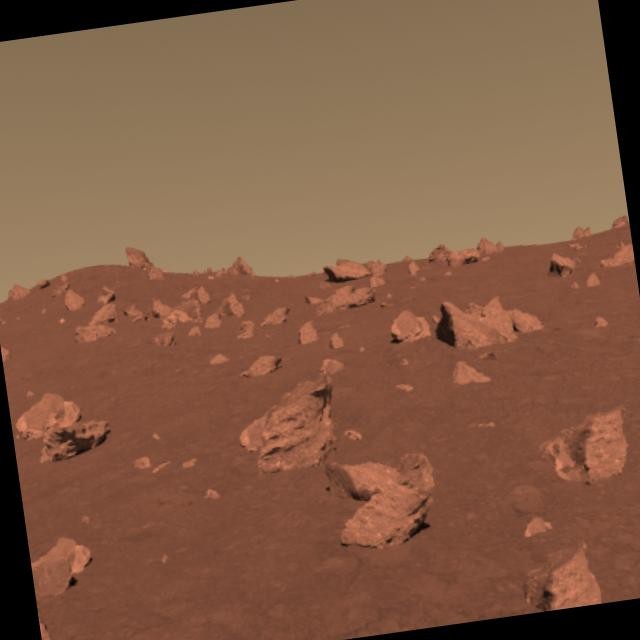rock: (224, 375, 348, 480), (332, 443, 444, 556), (13, 380, 116, 468), (534, 400, 636, 488), (519, 538, 606, 614), (436, 284, 528, 354), (27, 528, 103, 604), (383, 297, 440, 354), (308, 277, 379, 319), (74, 298, 128, 346)
